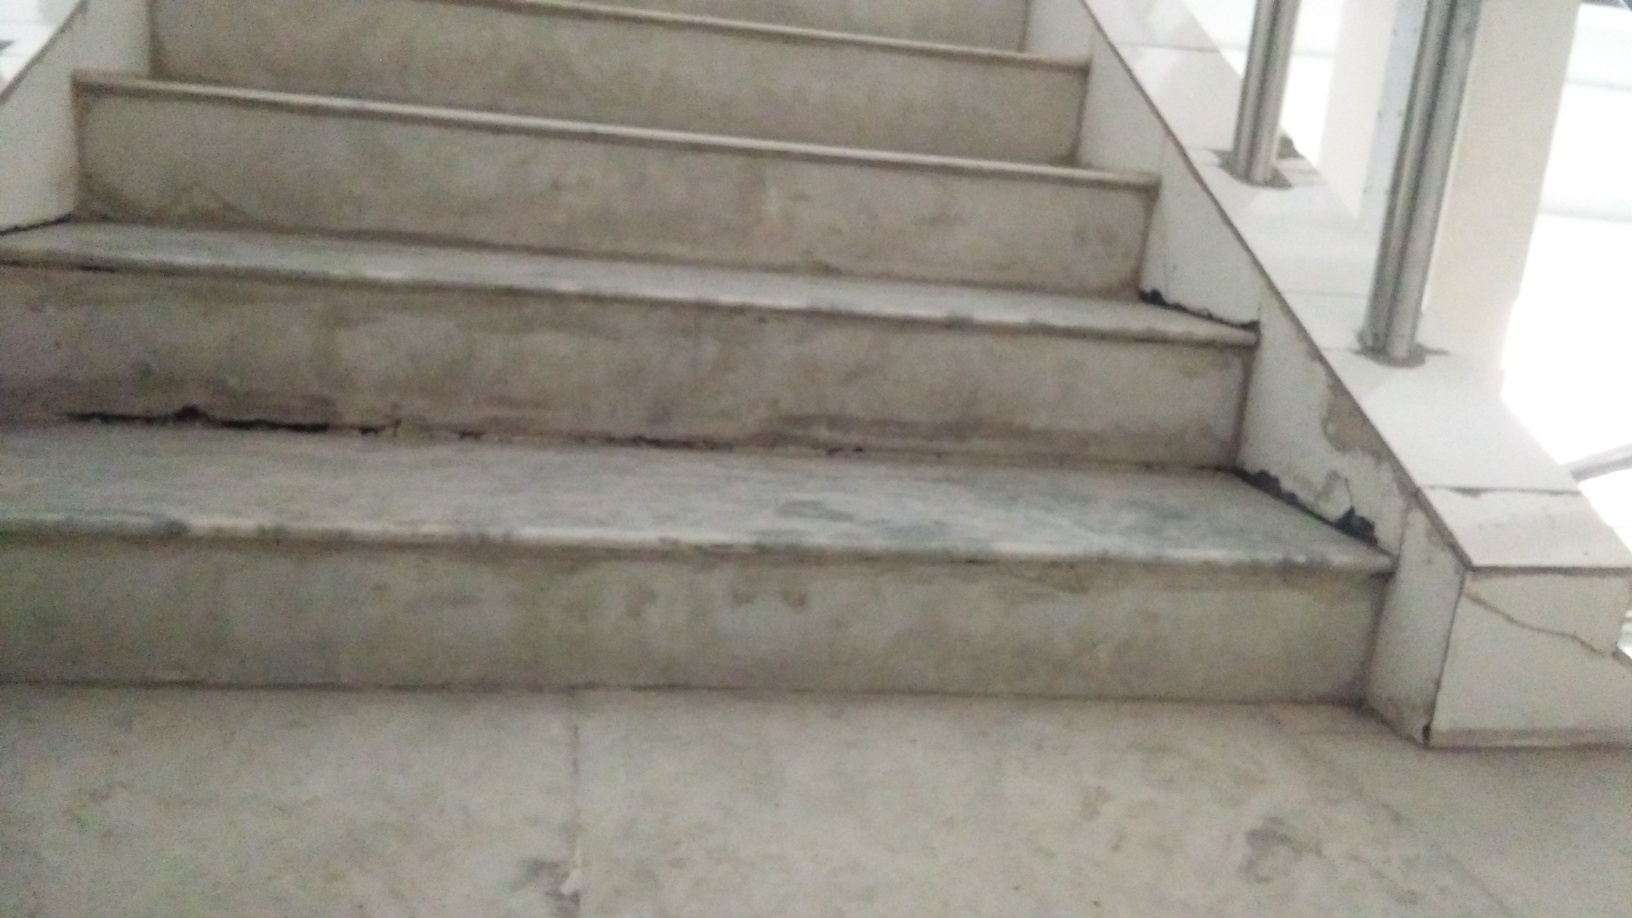stairs_up: (13, 12, 1392, 717)
